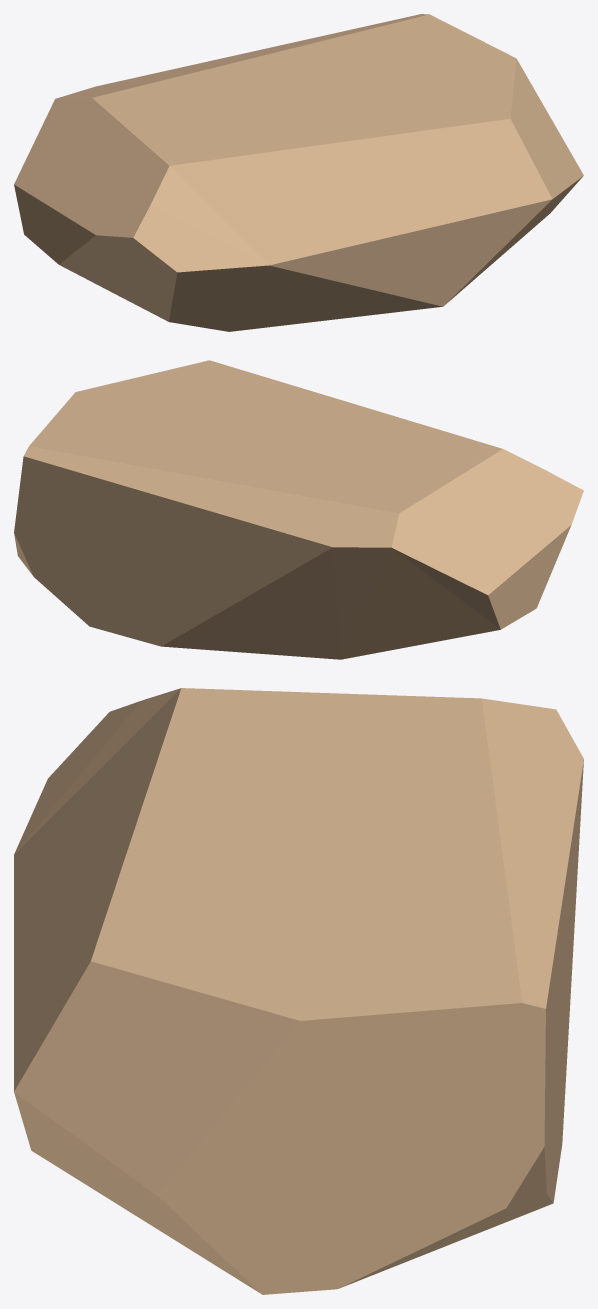
Rendered from Rock_Flat_m_07.fbx.
3 renders of one model, top to bottom at view 1: azimuth 30°, elevation 25°; view 2: azimuth 150°, elevation 25°; view 3: azimuth 270°, elevation 25°, orthographic. The views are drawn at different scales.
Visible parts, largest first — view 1: Rock_Flat_m_07; view 2: Rock_Flat_m_07; view 3: Rock_Flat_m_07.
Boxes of the visible parts, bbox=[...] form: Rock_Flat_m_07: bbox=[14, 14, 583, 331]; Rock_Flat_m_07: bbox=[14, 360, 583, 659]; Rock_Flat_m_07: bbox=[14, 688, 583, 1294].
Bounding box in the file's own units: 105 × 34.32 × 64.39.
